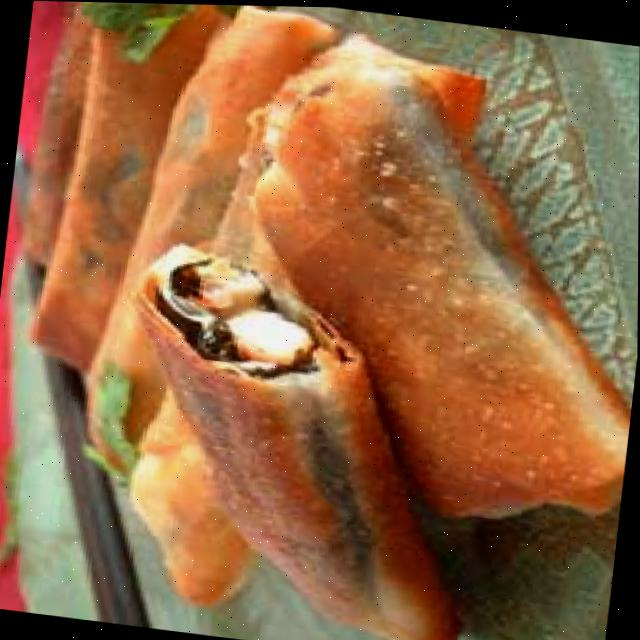鸡蛋料理: (102, 19, 640, 640)
